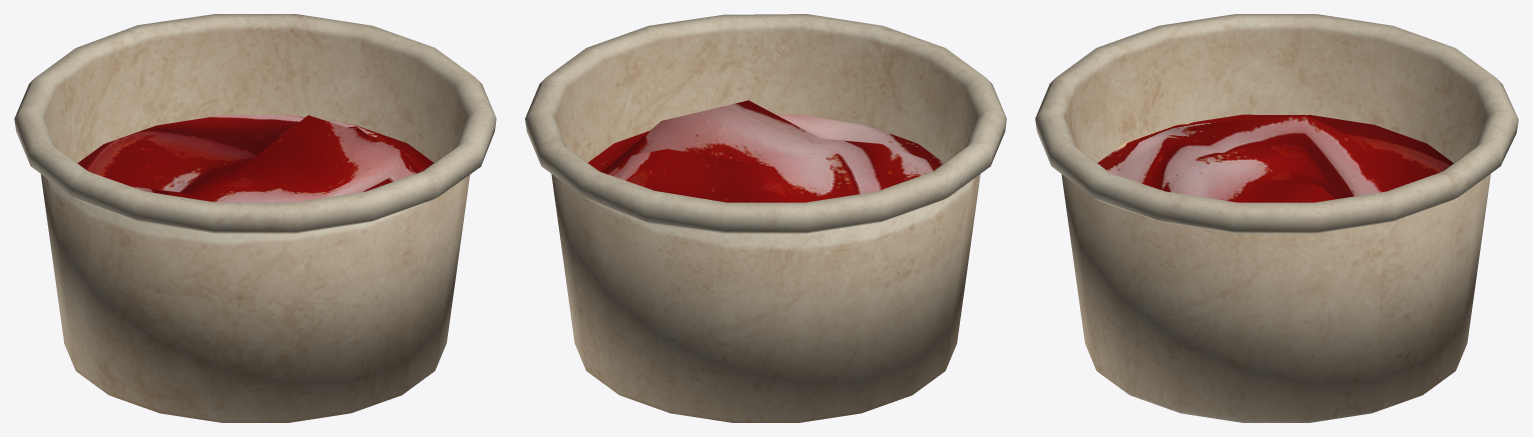
Rendered from ketchup.glb.
3 views of the same model, side by side, from view 1: azimuth 30°, elevation 25°; view 2: azimuth 150°, elevation 25°; view 3: azimuth 270°, elevation 25° (orthographic).
Visible parts, largest first — view 1: Sauce_ranch_sauceMaterial_0; view 2: Sauce_ranch_sauceMaterial_0; view 3: Sauce_ranch_sauceMaterial_0.
Part boxes in pixels (box(x1,y1,x2,y2)): Sauce_ranch_sauceMaterial_0: box(14, 14, 496, 422); Sauce_ranch_sauceMaterial_0: box(525, 14, 1006, 422); Sauce_ranch_sauceMaterial_0: box(1035, 14, 1518, 422).
Bounding box in the file's own units: 1.49 × 0.806 × 1.51.
Materials: 1 (1 with a texture image).
